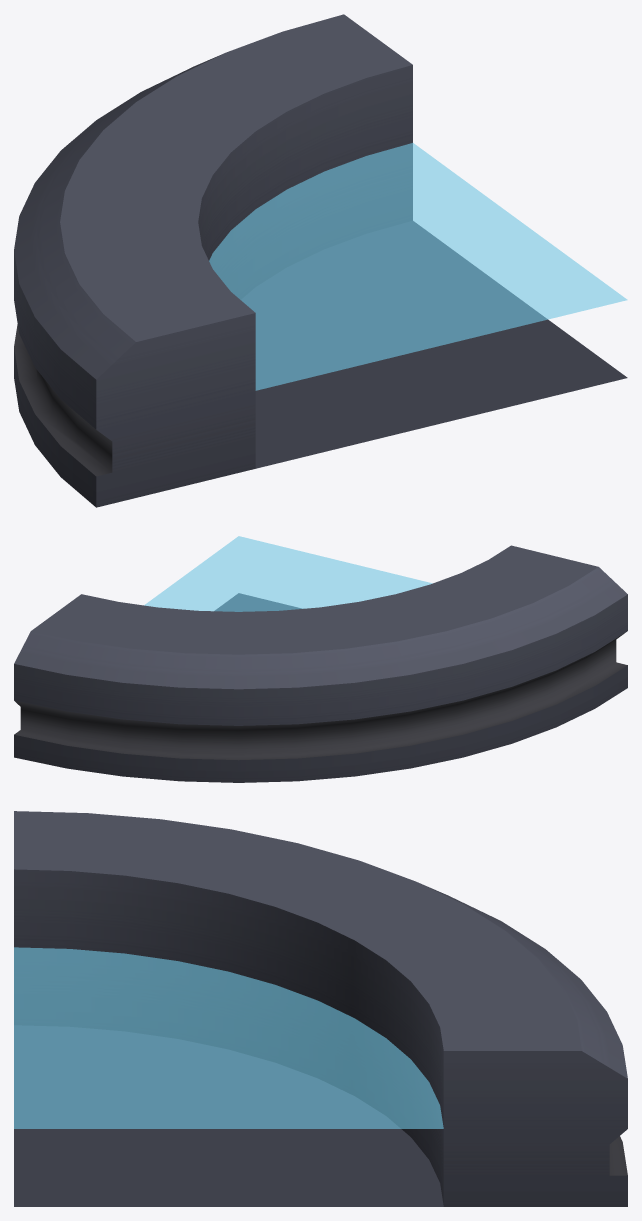
File: fountain-curved.glb
3 views of the same model, one above another, from view 1: azimuth 30°, elevation 25°; view 2: azimuth 150°, elevation 25°; view 3: azimuth 270°, elevation 25° (orthographic). The views are drawn at different scales.
Parts seen in each view (by area): view 1: fountain-curved, (_ignore); view 2: fountain-curved, (_ignore); view 3: fountain-curved, (_ignore).
Boxes of the visible parts, x1,y1,x2,y2 form: fountain-curved: [14, 14, 627, 507]; (_ignore): [209, 143, 627, 390]; fountain-curved: [14, 545, 627, 782]; (_ignore): [144, 536, 432, 611]; fountain-curved: [14, 811, 627, 1206]; (_ignore): [14, 947, 443, 1128].
Size of the model in its own units: 1 by 0.28 by 1.
Materials: 2 (1 with a texture image).
